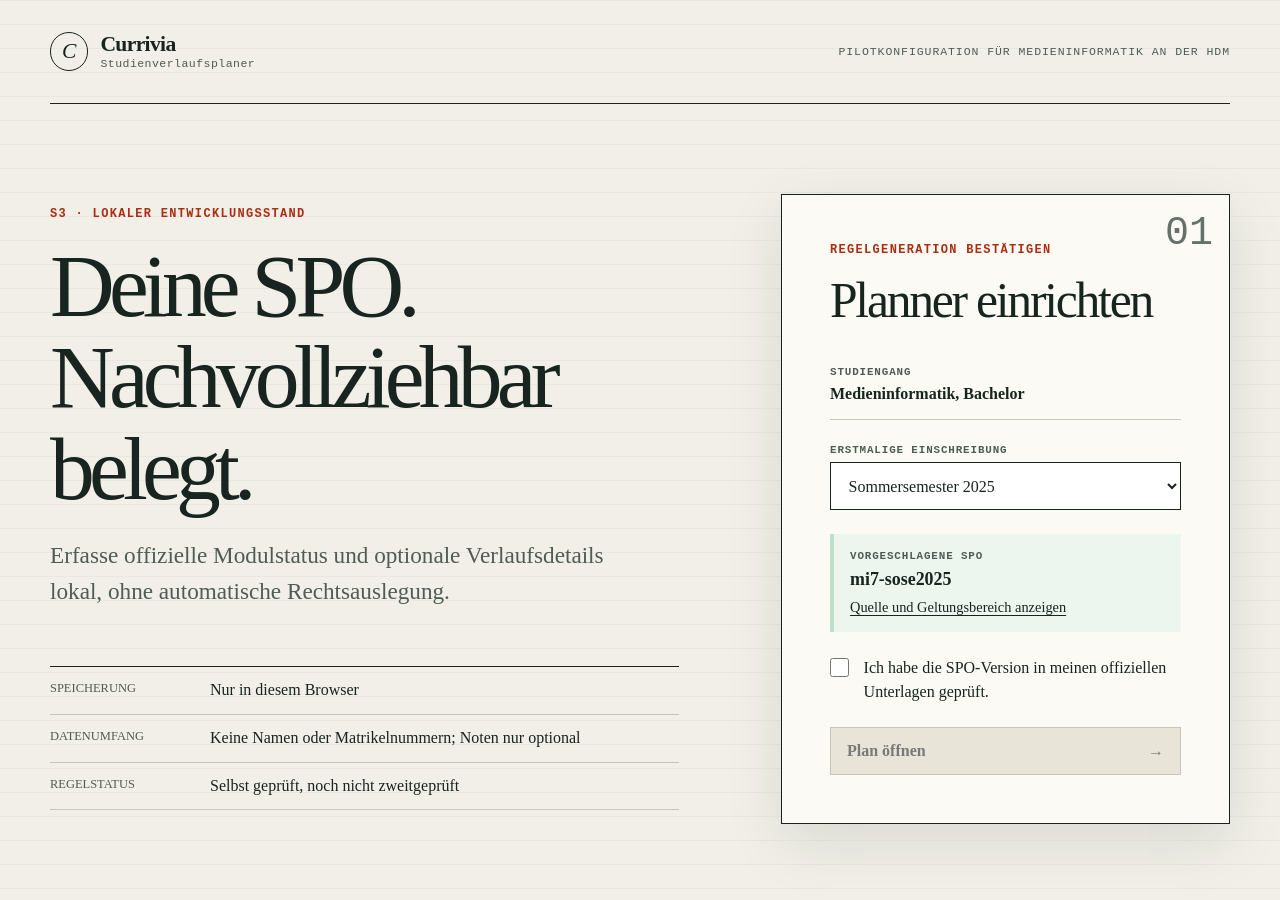
S1-Nutzerweg › öffnet für einen nicht unterstützten Geltungsbereich keinen Planner
Select "Wintersemester 2024/25" in the dropdown labelled "Erstmalige Einschreibung" at (1006,486), box [830, 462, 1181, 510]
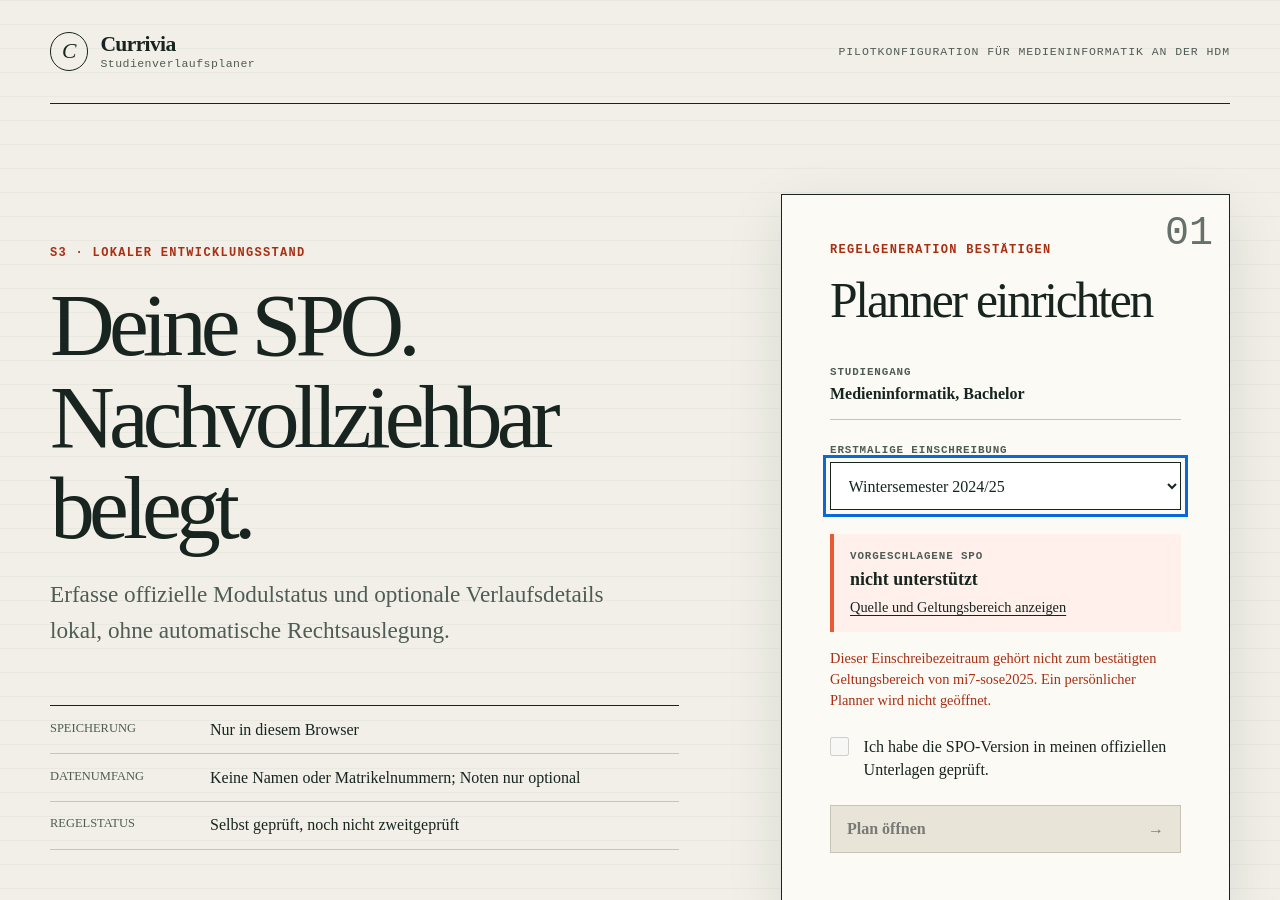
Expected: the button "Plan öffnen →" is disabled, [830, 805, 1181, 853]
Expected: the message shows "nicht zum bestätigten Geltungsbereich", [830, 650, 1156, 708]
